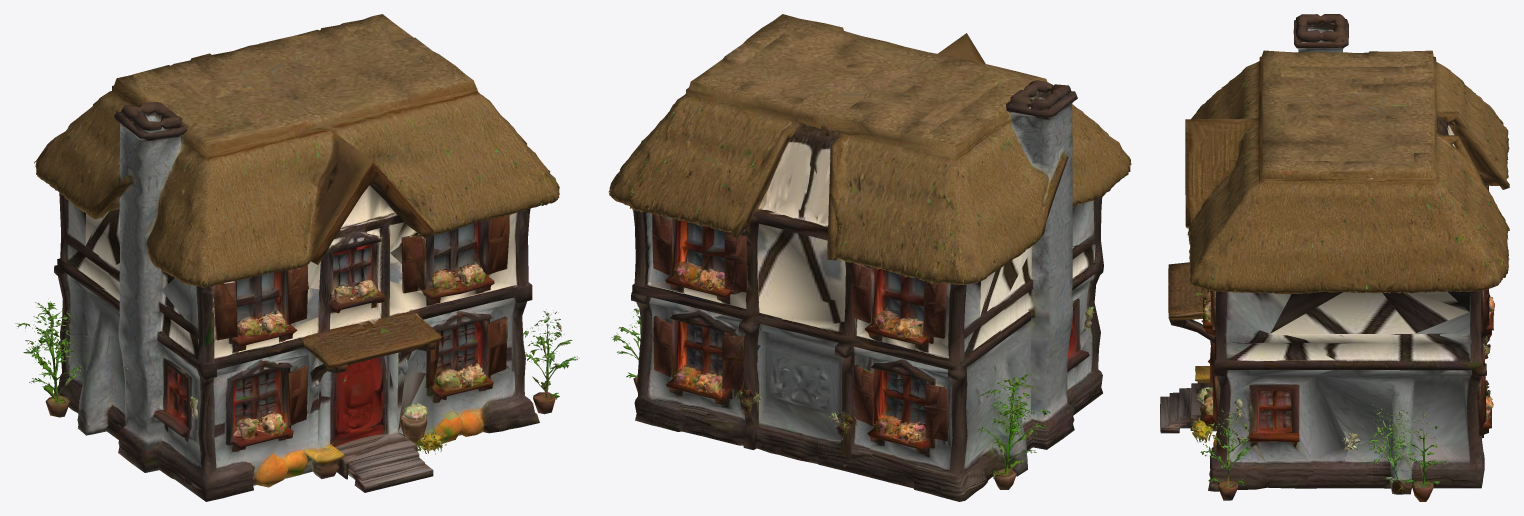
File: Rpg_house.glb
3 renders of one model, left to right at view 1: azimuth 30°, elevation 25°; view 2: azimuth 150°, elevation 25°; view 3: azimuth 270°, elevation 25°, orthographic. The views are drawn at different scales.
Parts seen in each view (by area): view 1: Rpg_house; view 2: Rpg_house; view 3: Rpg_house.
Boxes of the visible parts, x1,y1,x2,y2 form: Rpg_house: [15, 14, 579, 501]; Rpg_house: [608, 14, 1131, 501]; Rpg_house: [1160, 14, 1509, 501].
Bounding box in the file's own units: 1.89 × 1.46 × 1.42.
1 material, 1 textured.
